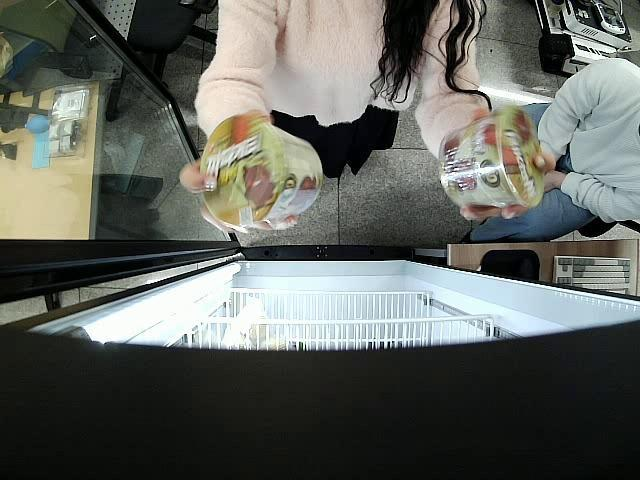04_chapagetti_S: (198, 114, 324, 230), (443, 107, 548, 212)
